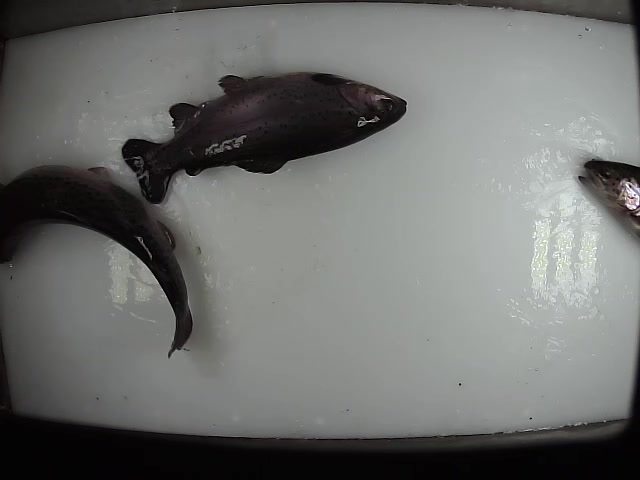fish: (120, 69, 411, 205), (1, 163, 196, 360), (575, 155, 640, 243)
